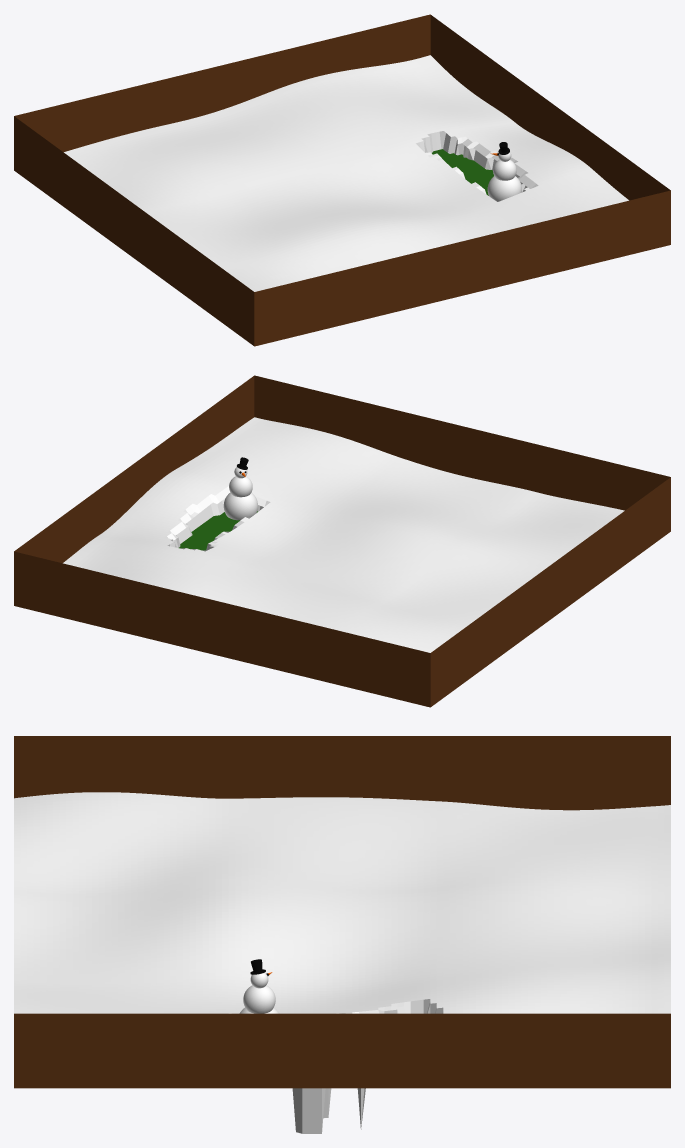
Rendered from chrimbas.glb.
3 views of the same model, one above another, from view 1: azimuth 30°, elevation 25°; view 2: azimuth 150°, elevation 25°; view 3: azimuth 270°, elevation 25° (orthographic). The views are drawn at different scales.
Visible parts, largest first — view 1: Snow, Fences, Body, Grass; view 2: Snow, Fences, Body, Grass; view 3: Snow, Fences, Body.
Boxes of the visible parts, x1,y1,x2,y2 form: Snow: (64,55,628,291); Fences: (14,14,670,346); Body: (487,152,521,201); Grass: (432,149,493,195); Snow: (63,417,624,652); Fences: (14,375,670,707); Body: (223,467,257,520); Grass: (179,511,257,550); Snow: (14,792,670,1133); Fences: (14,736,670,1088); Body: (239,972,279,1013).
Size of the model in its own units: 16 by 4.6 by 16.
